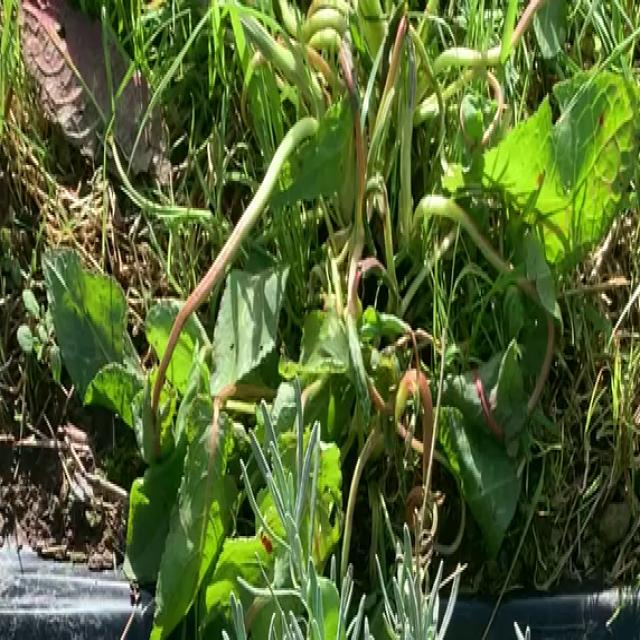organic waste: (46, 0, 629, 622)
